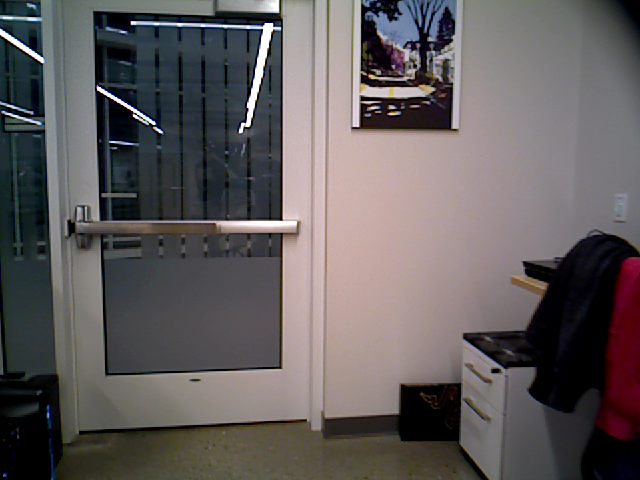painting3: (353, 1, 460, 129)
